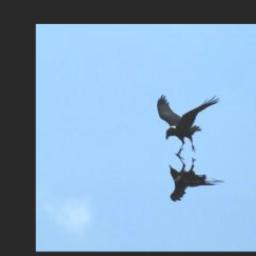Crow: (156, 93, 222, 157)
